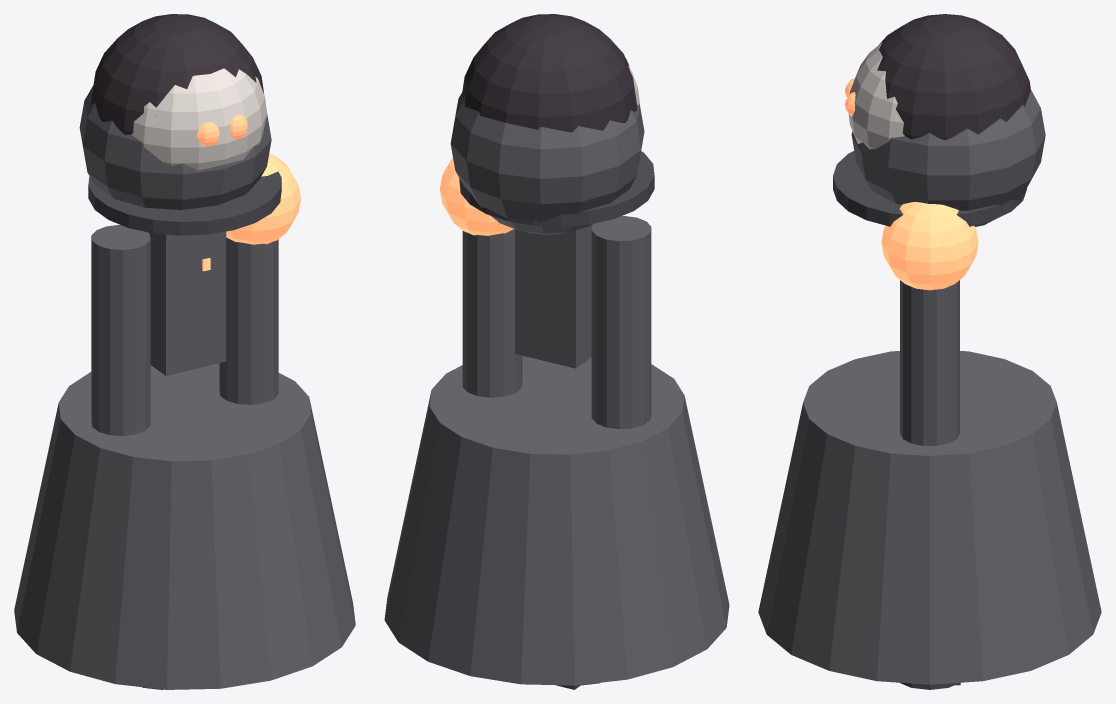
The model's file is Cassian.fbx.
3 renders of one model, left to right at view 1: azimuth 30°, elevation 25°; view 2: azimuth 150°, elevation 25°; view 3: azimuth 270°, elevation 25°, orthographic.
Parts seen in each view (by area): view 1: Cassian; view 2: Cassian; view 3: Cassian.
Part boxes in pixels (x1=…): Cassian: x1=14, y1=14, x2=355, y2=689; Cassian: x1=384, y1=14, x2=729, y2=689; Cassian: x1=758, y1=14, x2=1101, y2=689.
Size of the model in its own units: 167 by 348 by 167.
